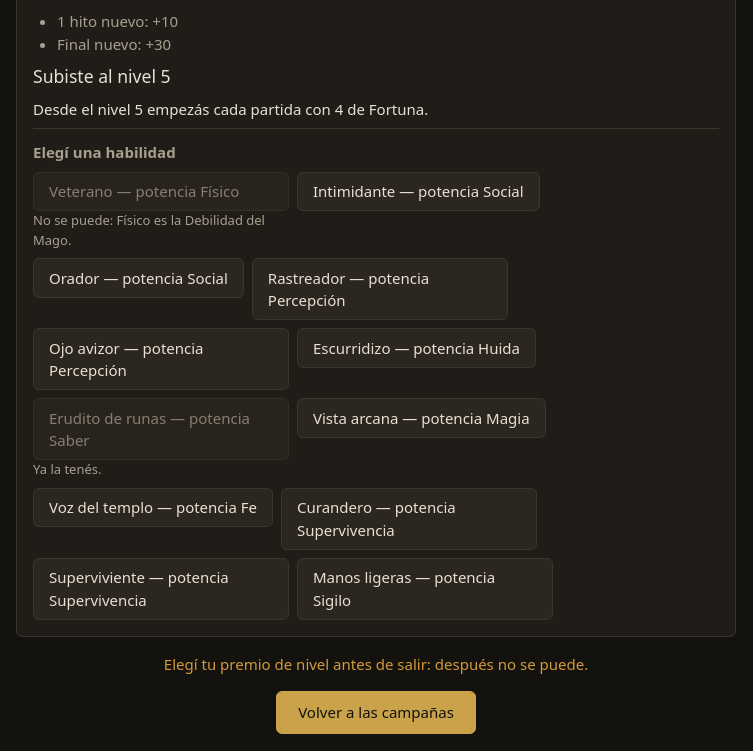
Test: FinScreen: la elección de la habilidad respeta la regla de identidad › muestra la habilidad prohibida deshabilitada y con el motivo, y aplica la que sí se puede
(page scrolled)
Expected: the button with test id "premio-habilidad-veterano" is disabled, [33,172,289,211]
Expected: the button with test id "premio-habilidad-erudito_de_runas" is disabled, [33,398,289,460]
Click the button with test id "premio-habilidad-vista_arcana": (421, 418) [297,398,546,438]
(page scrolled)
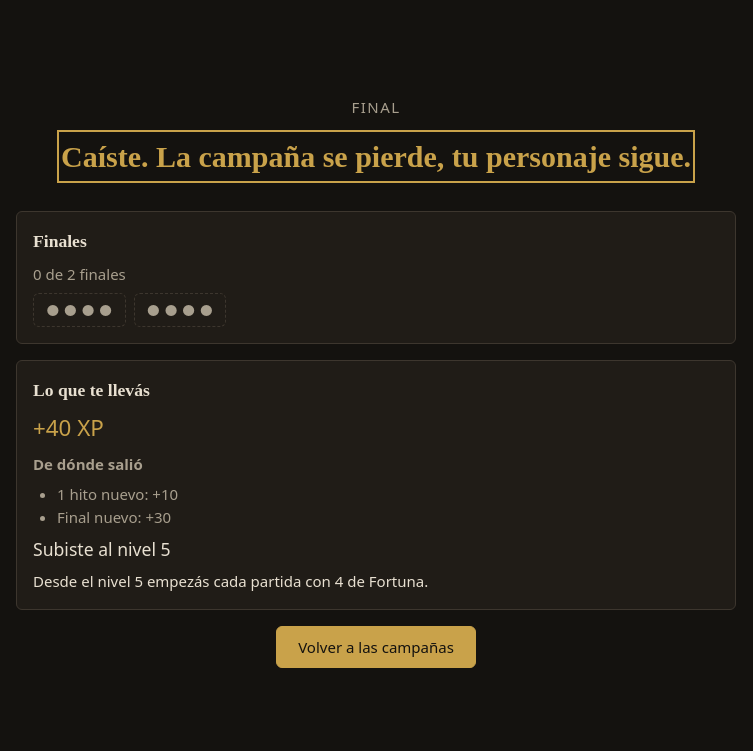
Expected: the button with test id "volver-del-fin" is enabled, [276,626,476,668]
